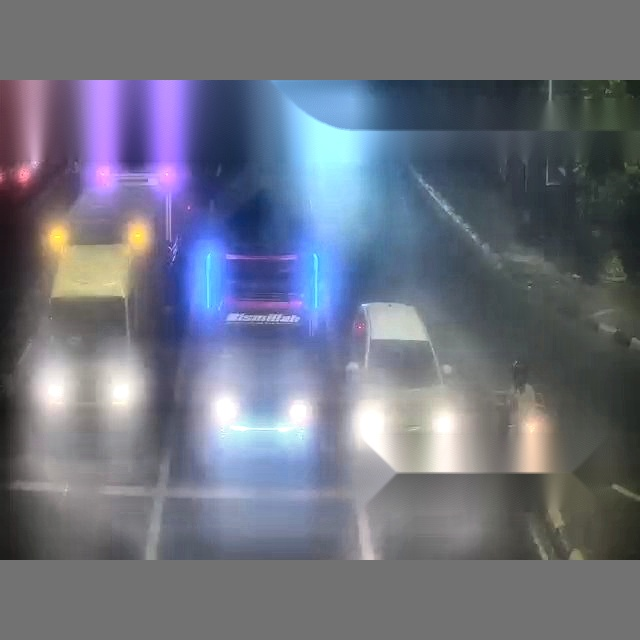Mobil: (348, 303, 457, 471)
